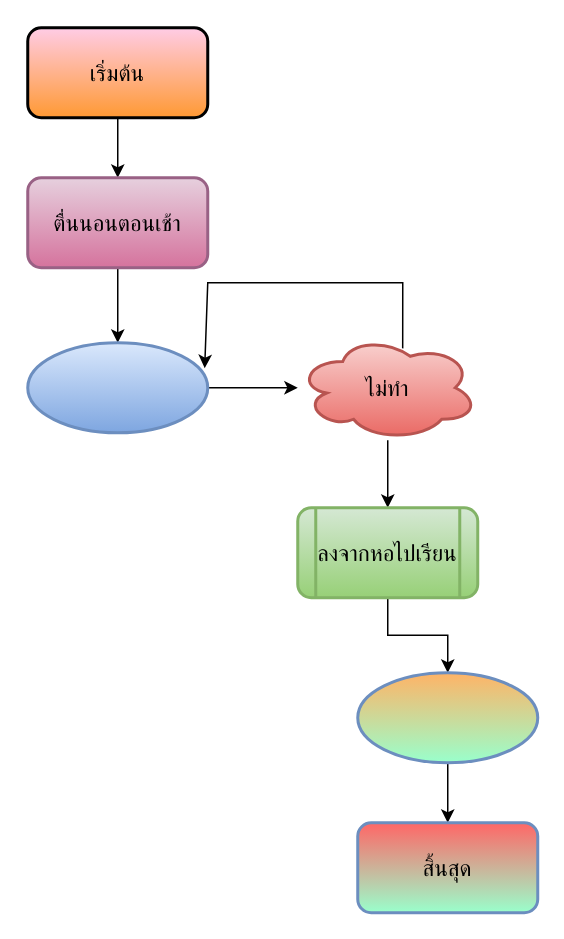
Some shapes in this 564 by 939 pixel diagram are drawn without their labels. The shapes that lost their labels are listed below. From the top down, each one's centre as x and y in pixels, then its label:
(117,387): ทำกับข้าวไปวิทยาลัย
(447,717): ไปเข้าแถวเคารพธงชาติ
